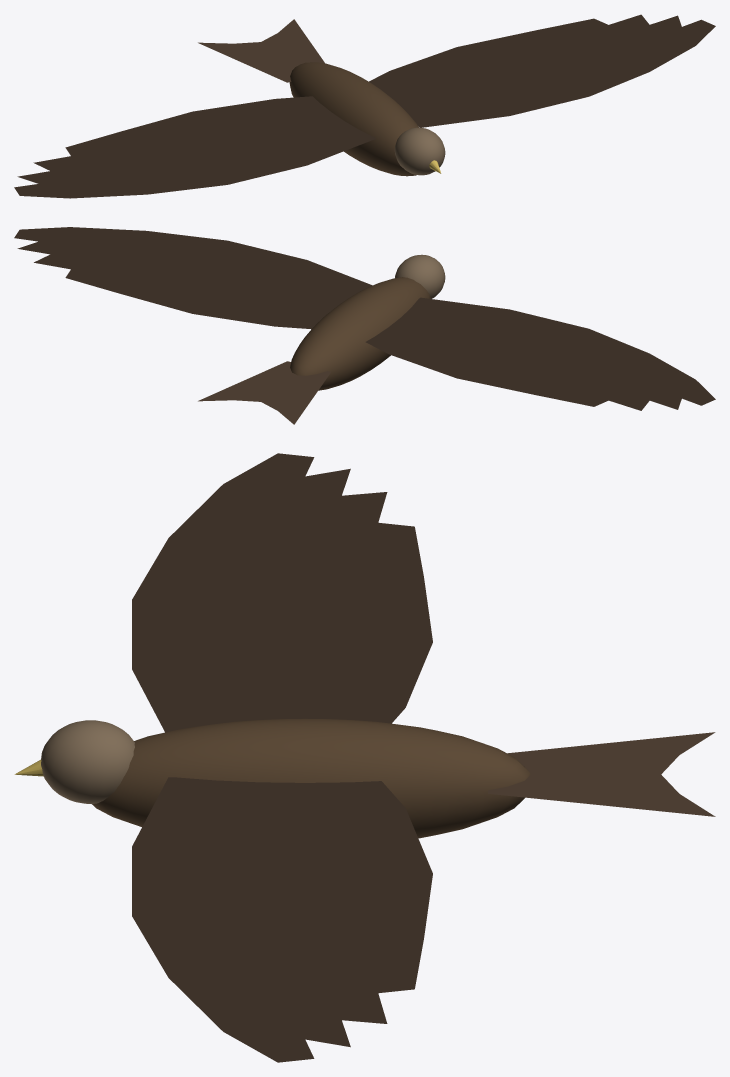
File: bird.glb
3 renders of one model, top to bottom at view 1: azimuth 30°, elevation 25°; view 2: azimuth 150°, elevation 25°; view 3: azimuth 270°, elevation 25°, orthographic. The views are drawn at different scales.
Parts seen in each view (by area): view 1: wing-right, wing-left, body, tail, head; view 2: wing-right, wing-left, body, tail, head; view 3: wing-left, wing-right, body, tail, head.
Part boxes in pixels (x1,y1,x2,y2): wing-right: (14, 96, 375, 198); wing-left: (369, 14, 715, 127); body: (289, 62, 418, 176); tail: (198, 19, 325, 82); head: (394, 127, 445, 175); wing-right: (365, 297, 715, 410); wing-left: (14, 227, 372, 329); body: (290, 277, 430, 390); tail: (198, 361, 330, 424); head: (395, 254, 445, 298); wing-left: (132, 777, 432, 1062); wing-right: (132, 453, 432, 732); body: (92, 718, 530, 838); tail: (488, 732, 715, 816); head: (41, 720, 134, 803).
Bounding box in the file's own units: 1.58 × 0.1406 × 0.7692.
